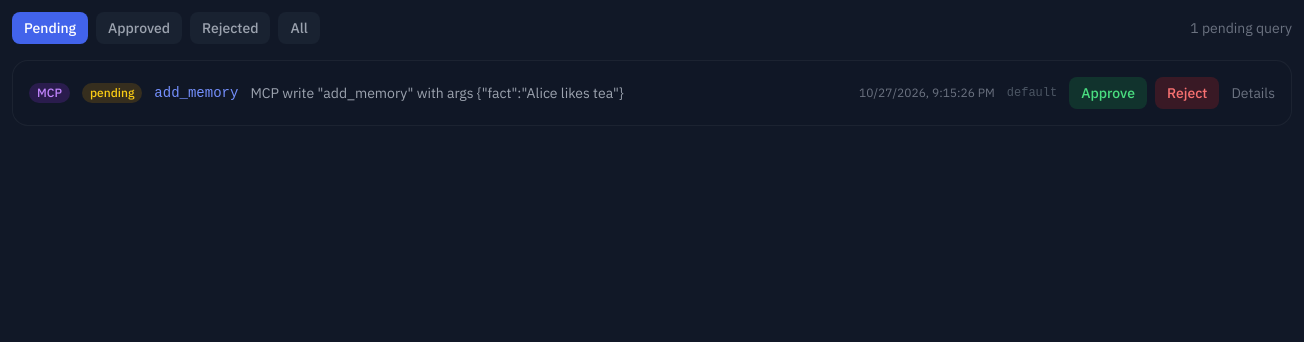
PendingQueries › renders an MCP badge and toolName/args (not SQL) for an mcp-tool entry
Check: the text "MCP" is shown, box [29,83,70,103]
Click the button "Details" at x=1253, y=93, box [1231,83,1275,103]
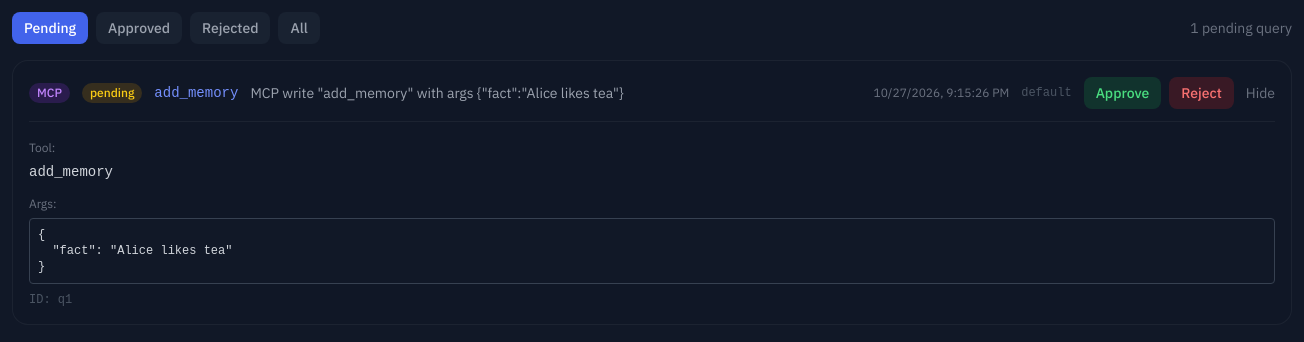
Check: the text "Tool:" is shown, box [29,140,55,155]
